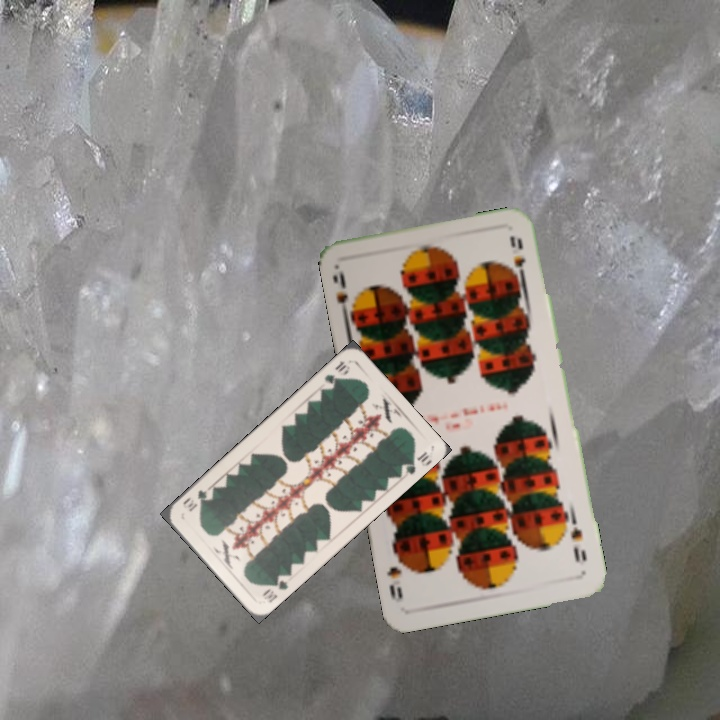G10: (259, 570, 291, 605), (320, 356, 353, 388)
S9: (329, 263, 361, 322), (562, 516, 589, 565)
